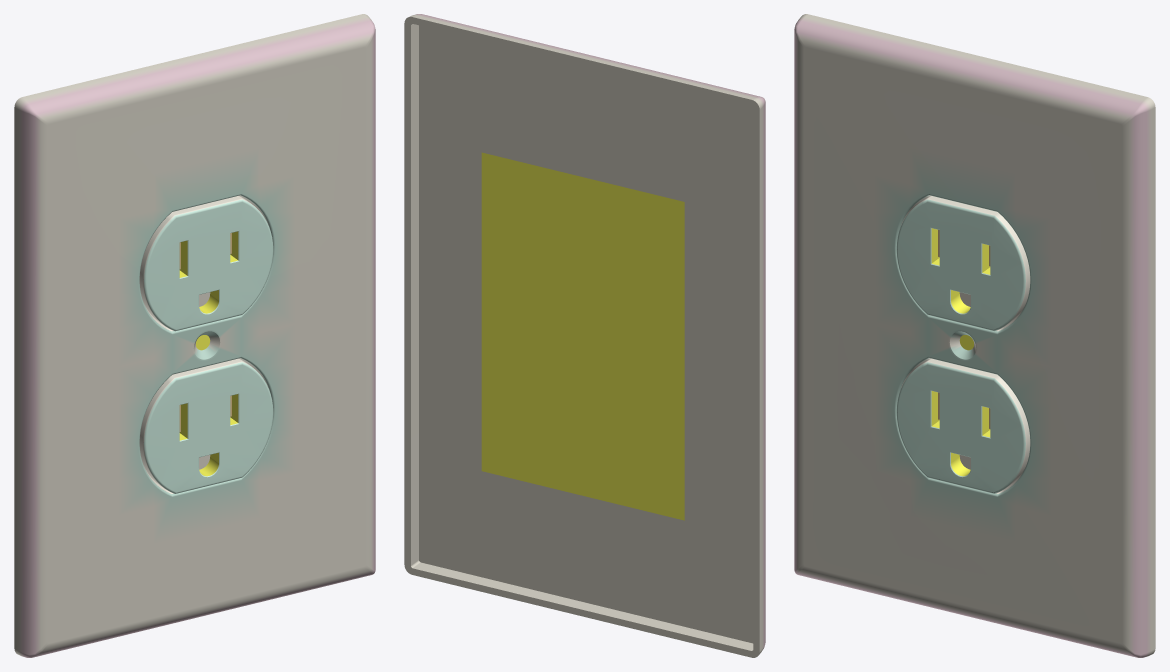
The model's file is Kit_OutletDuplex_Jumbo.fbx.
3 renders of one model, left to right at view 1: azimuth 30°, elevation 25°; view 2: azimuth 150°, elevation 25°; view 3: azimuth 330°, elevation 25°, orthographic.
Parts seen in each view (by area): view 1: Kit_OutletDuplex_Jumbo_LOD0; view 2: Kit_OutletDuplex_Jumbo_LOD0; view 3: Kit_OutletDuplex_Jumbo_LOD0.
Boxes of the visible parts, left/top/right/bottom form: Kit_OutletDuplex_Jumbo_LOD0: left=14, top=14, right=375, bottom=657; Kit_OutletDuplex_Jumbo_LOD0: left=404, top=14, right=765, bottom=657; Kit_OutletDuplex_Jumbo_LOD0: left=794, top=14, right=1155, bottom=657.
Size of what is drawn, in the model's own units: 0.0889 by 0.1334 by 0.0075.
